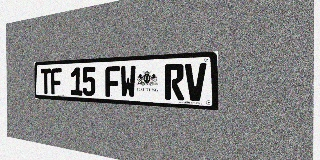1: (70, 67, 82, 96)
5: (83, 67, 96, 96)
F: (105, 66, 120, 97), (51, 68, 62, 95)
R: (165, 64, 184, 100)
T: (41, 68, 51, 94)
V: (185, 63, 206, 101)
W: (120, 65, 136, 98)
